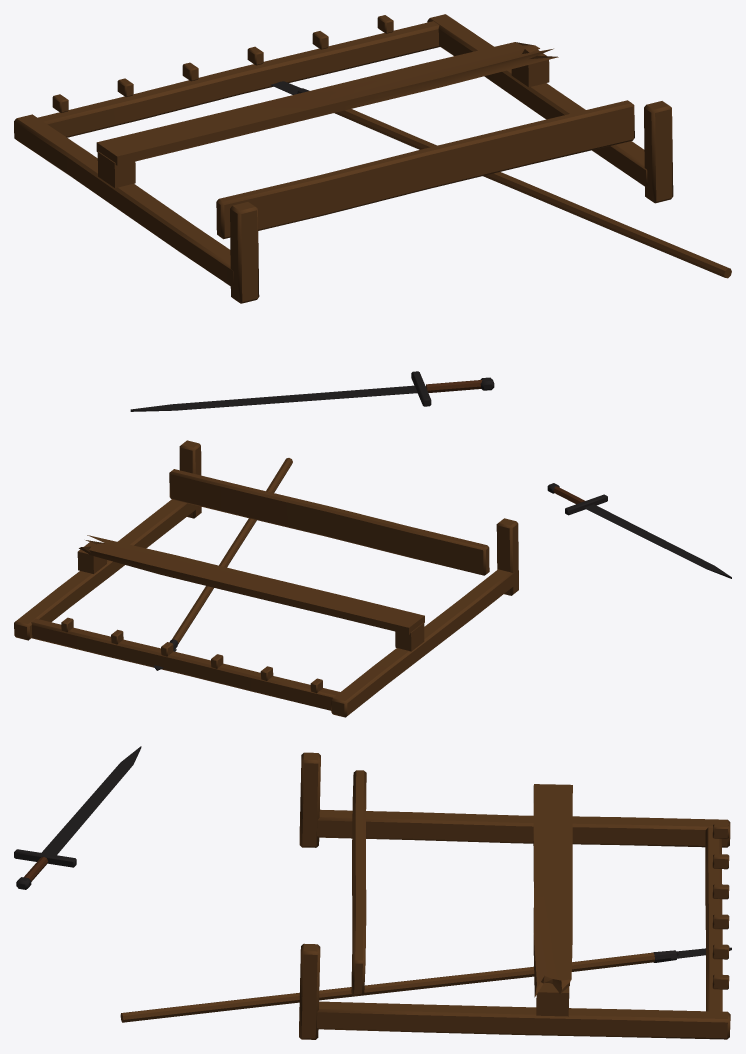
The model's file is waffenstaender_kaputt.glb.
3 renders of one model, top to bottom at view 1: azimuth 30°, elevation 25°; view 2: azimuth 150°, elevation 25°; view 3: azimuth 270°, elevation 25°, orthographic. The views are drawn at different scales.
Parts seen in each view (by area): view 1: waffenstaender_kaputt; view 2: waffenstaender_kaputt; view 3: waffenstaender_kaputt.
Part boxes in pixels (box(x1,y1,x2,y2)): waffenstaender_kaputt: box(14, 14, 731, 411); waffenstaender_kaputt: box(14, 440, 731, 717); waffenstaender_kaputt: box(14, 746, 731, 1039).
Size of the model in its own units: 2.15 by 0.306 by 2.22.
